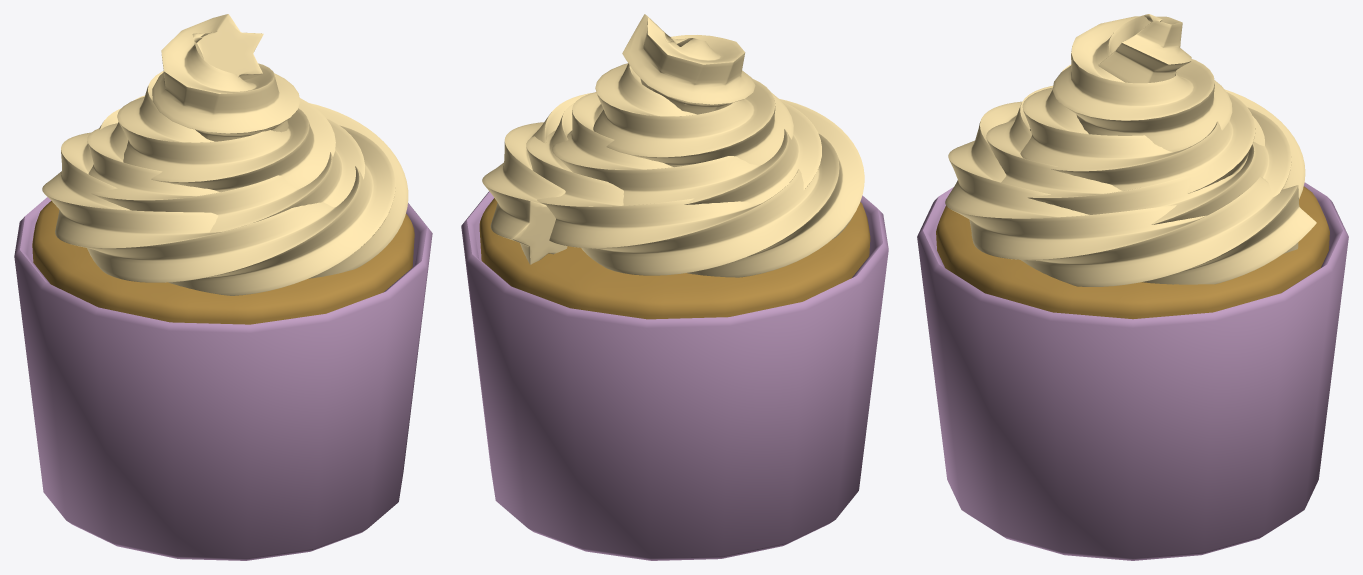
Rendered from Cupcake_1.fbx.
3 renders of one model, left to right at view 1: azimuth 30°, elevation 25°; view 2: azimuth 150°, elevation 25°; view 3: azimuth 270°, elevation 25°, orthographic. The views are drawn at different scales.
Parts seen in each view (by area): view 1: Cup, Cylinder.002, Cylinder.001; view 2: Cup, Cylinder.002, Cylinder.001; view 3: Cup, Cylinder.002, Cylinder.001.
Boxes of the visible parts, box(x1,y1,x2,y2) form: Cup: box(14, 197, 432, 560); Cylinder.002: box(42, 14, 408, 295); Cylinder.001: box(32, 201, 414, 324); Cup: box(461, 191, 888, 560); Cylinder.002: box(482, 14, 864, 277); Cylinder.001: box(479, 198, 870, 319); Cup: box(917, 182, 1348, 560); Cylinder.002: box(945, 14, 1316, 286); Cylinder.001: box(936, 186, 1329, 319).
Bounding box in the file's own units: 199 × 241 × 199.
